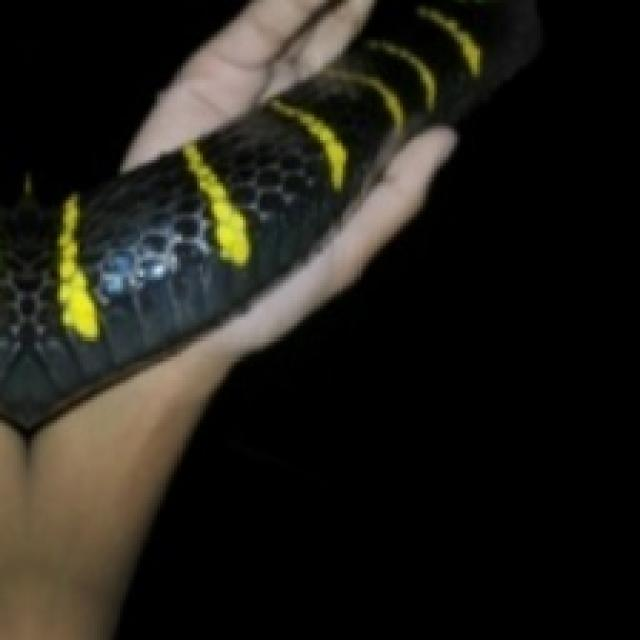mangrove cat snake: (0, 0, 537, 429)
